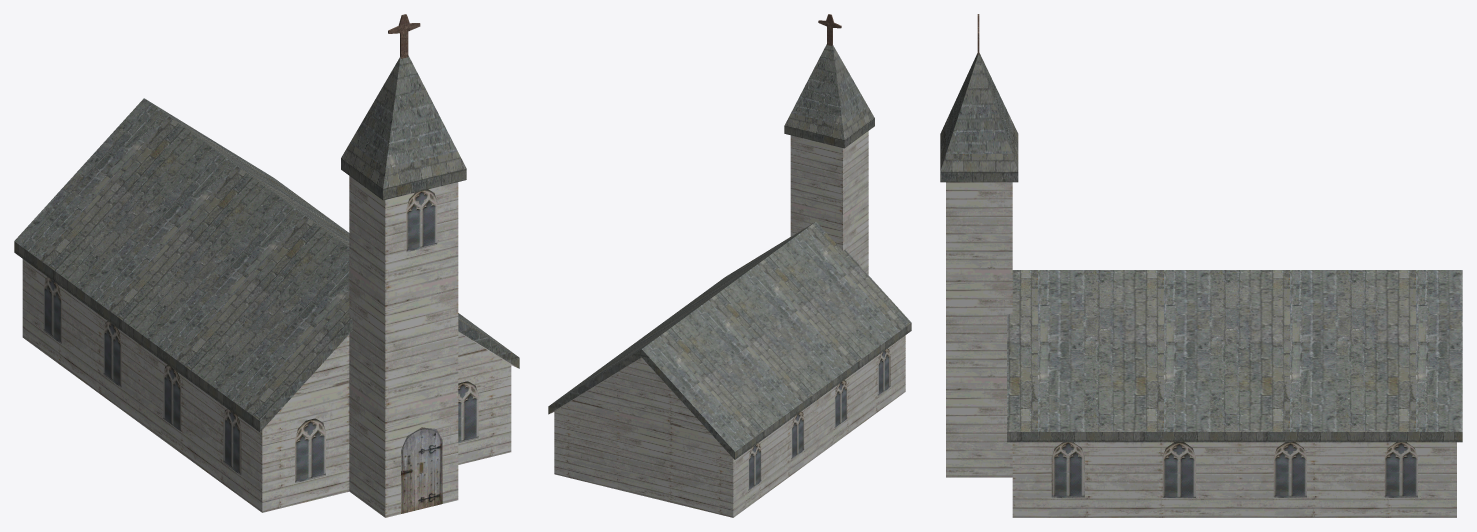
File: final_church.glb
The picture shows the model from 3 angles, left to right: view 1: azimuth 30°, elevation 25°; view 2: azimuth 150°, elevation 25°; view 3: azimuth 270°, elevation 25°; orthographic projection. The views are drawn at different scales.
Visible parts, largest first — view 1: PSX Abandoned Church; view 2: PSX Abandoned Church; view 3: PSX Abandoned Church.
Boxes of the visible parts, x1,y1,x2,y2 form: PSX Abandoned Church: (14, 14, 519, 517); PSX Abandoned Church: (548, 14, 911, 517); PSX Abandoned Church: (940, 14, 1462, 517).
Size of the model in its own units: 6.26 by 11.11 by 11.76.
Materials: 19 (16 with a texture image).
